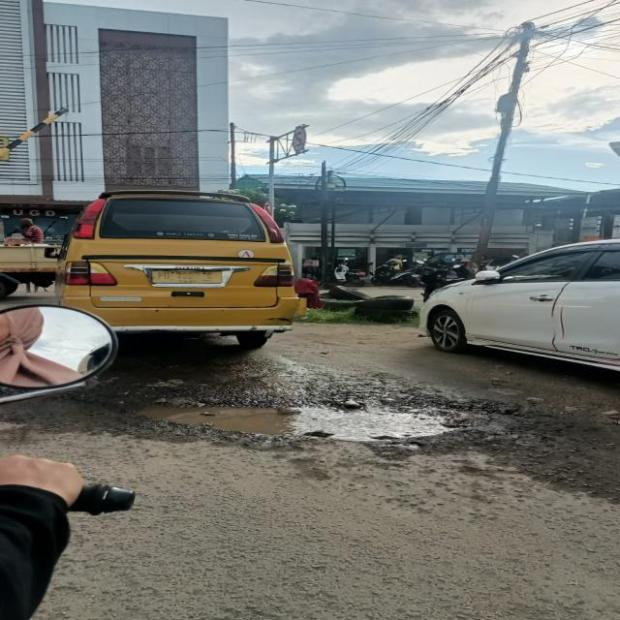lubang: (129, 366, 517, 450)
